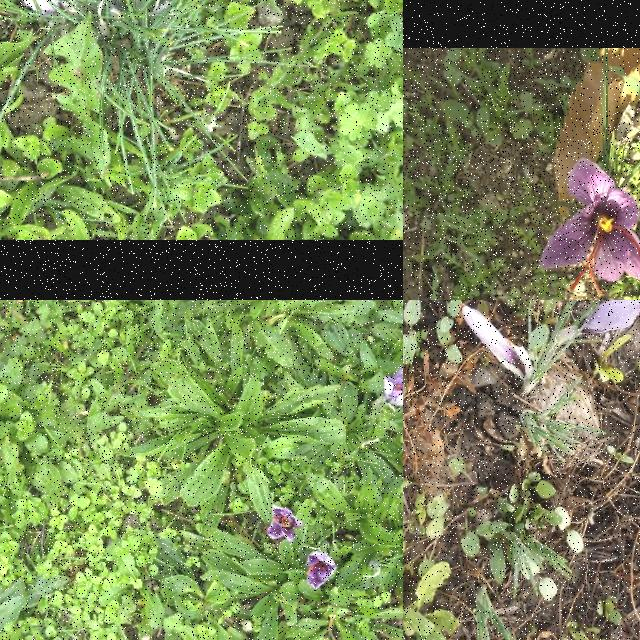flower: (538, 159, 640, 297), (461, 300, 527, 376), (581, 300, 640, 336), (304, 552, 340, 590), (267, 506, 301, 542), (17, 0, 60, 16)
overlap: (382, 360, 403, 407)
